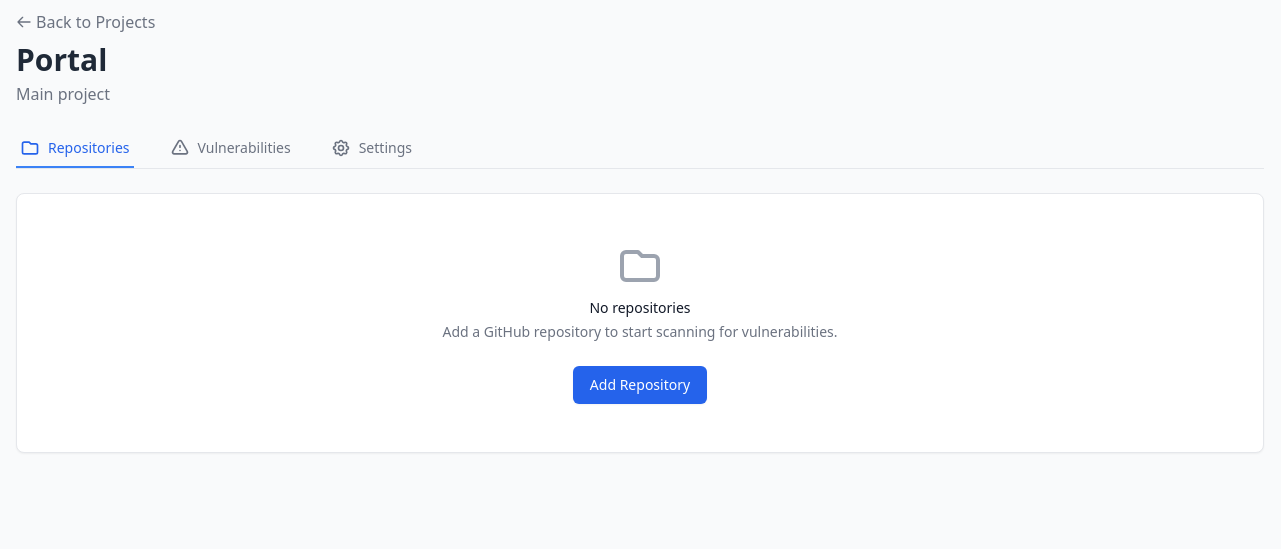
Test case: ProjectDetailPage › the Settings tab shows "Never" when the project was never updated
What coordinates should you click on to do the following:
click the button "Settings"
I would click on:
 (371, 149)
Its box is [327,130,416,168].
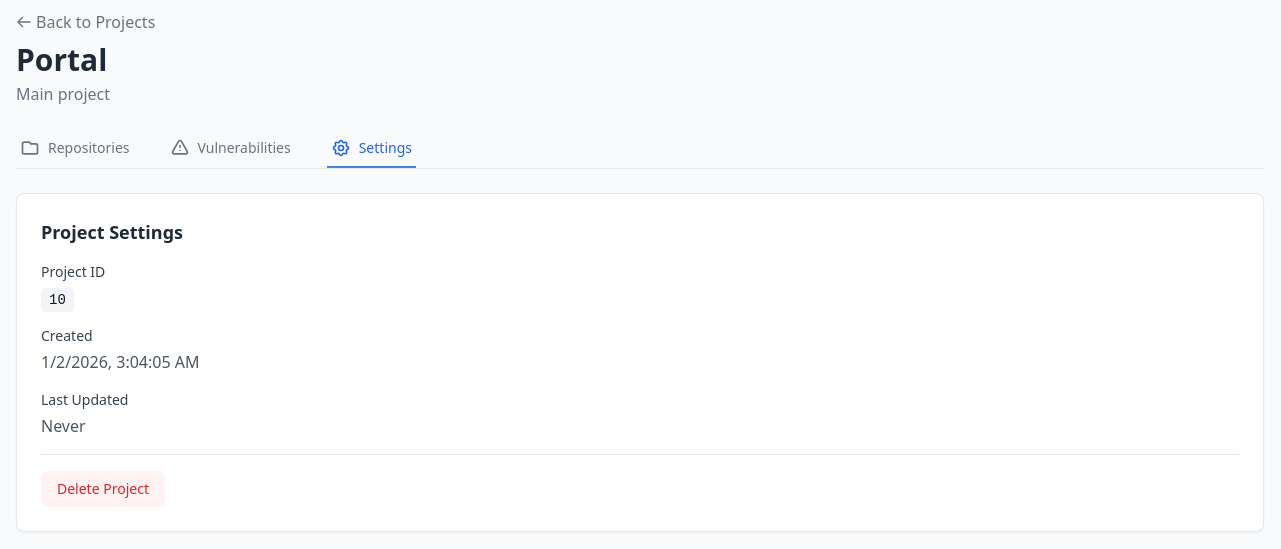
Expected: the text "Never" is shown, [41,415,86,437]
